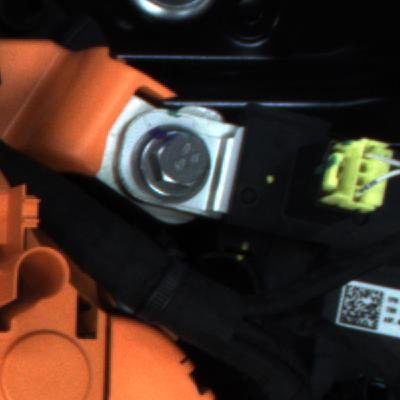nut_b: (124, 125, 220, 205)
